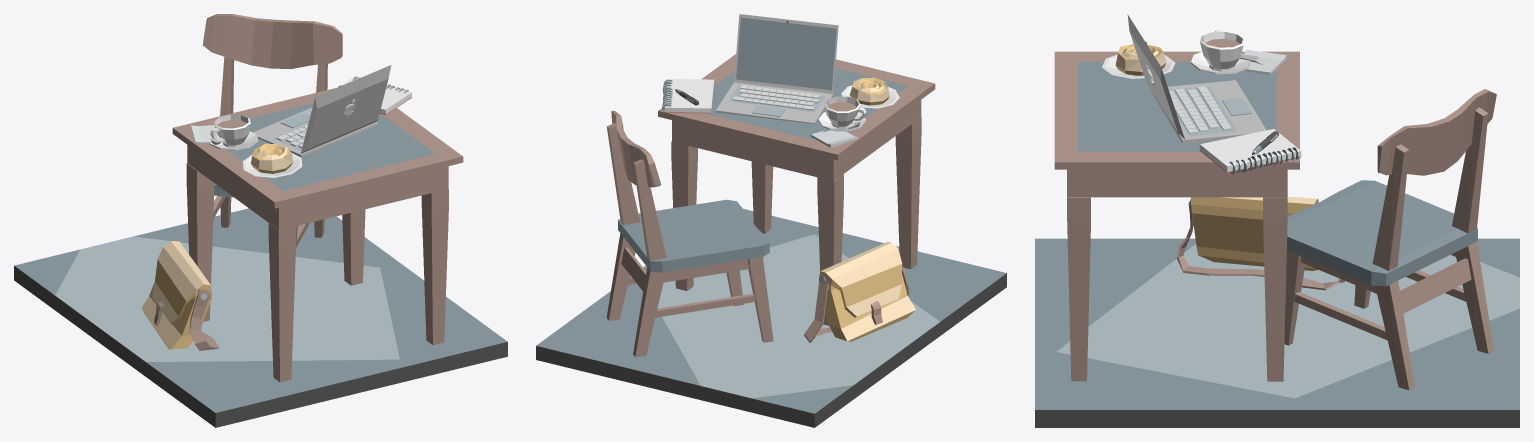
Rendered from StudyDesk.gltf.
The picture shows the model from 3 angles, left to right: view 1: azimuth 30°, elevation 25°; view 2: azimuth 150°, elevation 25°; view 3: azimuth 270°, elevation 25°; orthographic projection. The views are drawn at different scales.
Visible parts, largest first — view 1: group_2110028310; view 2: group_2110028310; view 3: group_2110028310.
Part boxes in pixels (x1=…): group_2110028310: x1=14, y1=14, x2=507, y2=427; group_2110028310: x1=536, y1=14, x2=1006, y2=427; group_2110028310: x1=1035, y1=14, x2=1519, y2=427.
Bounding box in the file's own units: 1.44 × 1.27 × 1.72.
